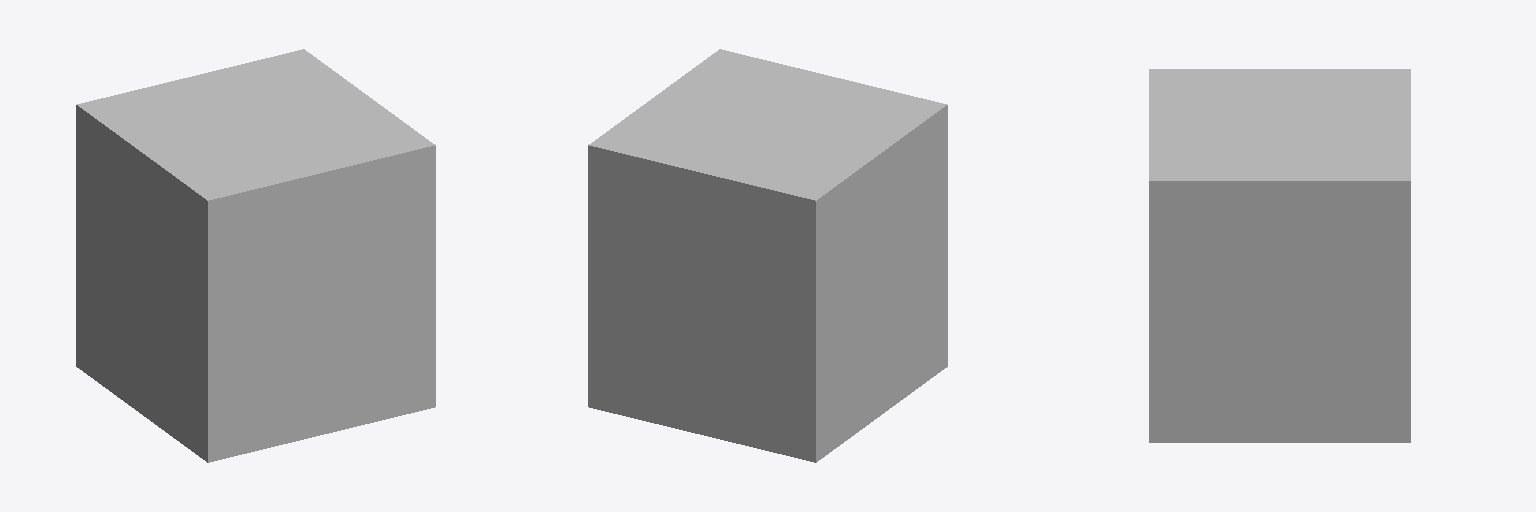
File: wallSet_15.obj
3 views of the same model, side by side, from view 1: azimuth 30°, elevation 25°; view 2: azimuth 150°, elevation 25°; view 3: azimuth 270°, elevation 25° (orthographic).
Visible parts, largest first — view 1: wallSet_15_Cube.028; view 2: wallSet_15_Cube.028; view 3: wallSet_15_Cube.028.
Boxes of the visible parts, <box> form: wallSet_15_Cube.028: <box>76,49,435,462</box>; wallSet_15_Cube.028: <box>588,49,947,462</box>; wallSet_15_Cube.028: <box>1149,69,1410,442</box>.
Bounding box in the file's own units: 2 × 2.2 × 2.